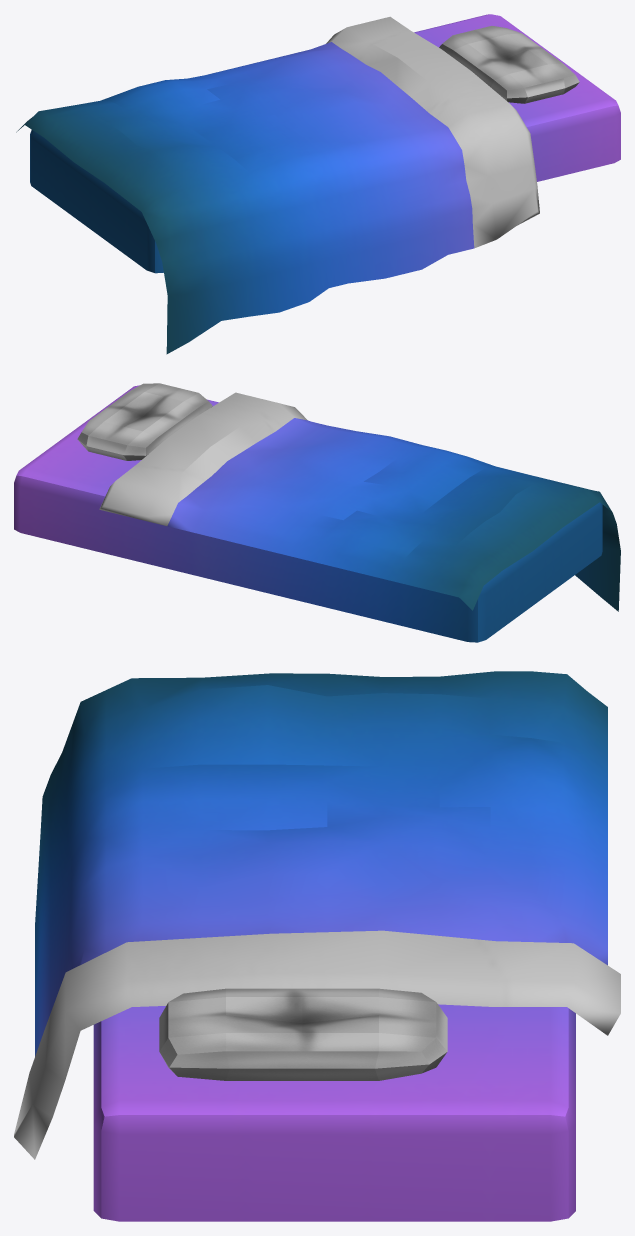
The model's file is Bed_mattress.fbx.
3 renders of one model, top to bottom at view 1: azimuth 30°, elevation 25°; view 2: azimuth 150°, elevation 25°; view 3: azimuth 270°, elevation 25°, orthographic. The views are drawn at different scales.
Parts seen in each view (by area): view 1: BedSheet, Mattress, Pillow_Bed; view 2: BedSheet, Mattress, Pillow_Bed; view 3: BedSheet, Mattress, Pillow_Bed.
Part boxes in pixels (box(x1,y1,x2,y2)): BedSheet: box(16, 16, 539, 354); Mattress: box(30, 14, 620, 273); Pillow_Bed: box(439, 26, 579, 103); BedSheet: box(99, 392, 620, 611); Mattress: box(14, 385, 602, 642); Pillow_Bed: box(77, 383, 212, 460); BedSheet: box(14, 671, 620, 1159); Mattress: box(93, 1004, 575, 1221); Pillow_Bed: box(159, 988, 447, 1080).
Bounding box in the file's own units: 19.07 × 5.88 × 11.33.
1 material, 1 textured.
